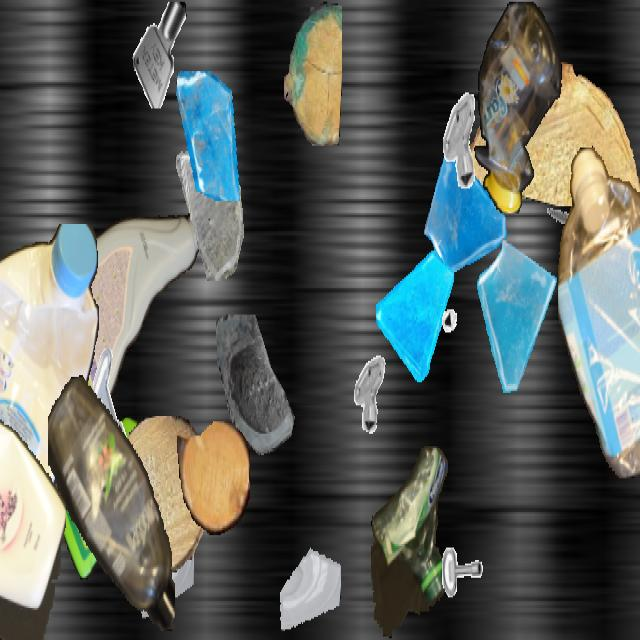glass: (213, 314, 307, 482), (471, 236, 563, 400), (423, 135, 511, 292), (376, 244, 454, 382), (173, 149, 247, 281), (173, 71, 245, 199), (279, 526, 341, 636), (137, 517, 193, 617)
metal: (81, 345, 143, 455), (131, 2, 191, 108), (429, 89, 487, 192), (436, 539, 492, 638), (343, 348, 391, 434), (542, 185, 586, 263), (439, 277, 477, 345)
plastic: (28, 203, 202, 430), (0, 224, 102, 590), (48, 372, 174, 638), (558, 144, 640, 478), (473, 2, 563, 212), (54, 416, 164, 580), (0, 390, 66, 638), (371, 443, 449, 638)
wood: (467, 62, 640, 204), (111, 416, 209, 572), (284, 2, 342, 144), (177, 421, 249, 535)
